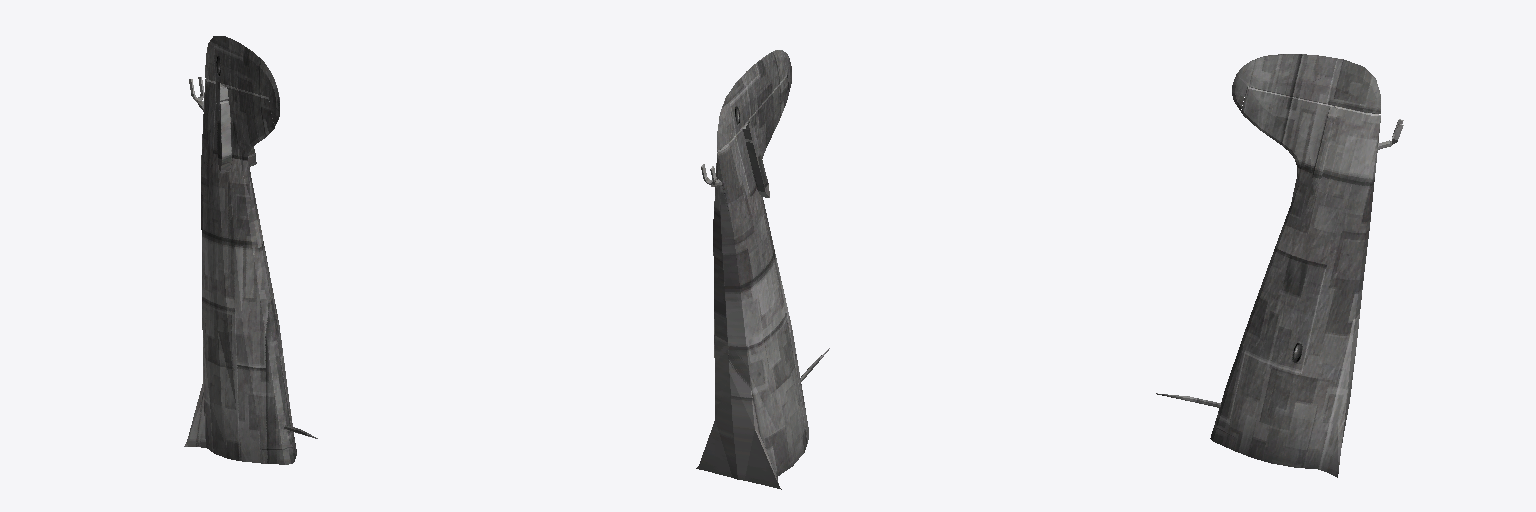
The picture shows the model from 3 angles: view 1: azimuth 30°, elevation 25°; view 2: azimuth 150°, elevation 25°; view 3: azimuth 270°, elevation 25°; orthographic projection.
Parts seen in each view (by area): view 1: Object.1; view 2: Object.1; view 3: Object.1.
Part boxes in pixels (bbox=[...]): Object.1: bbox=[184, 36, 317, 464]; Object.1: bbox=[696, 50, 829, 489]; Object.1: bbox=[1156, 54, 1403, 477].
Bounding box in the file's own units: 0.2048 × 0.9234 × 0.5116.
Materials: 1 (1 with a texture image).